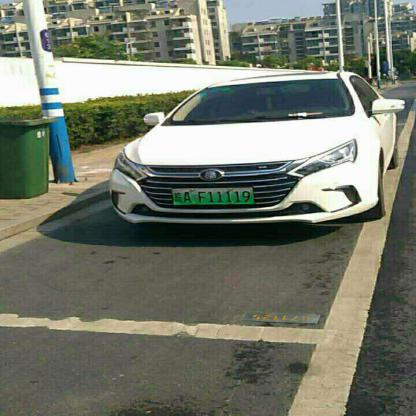lp: (171, 187, 255, 206)
